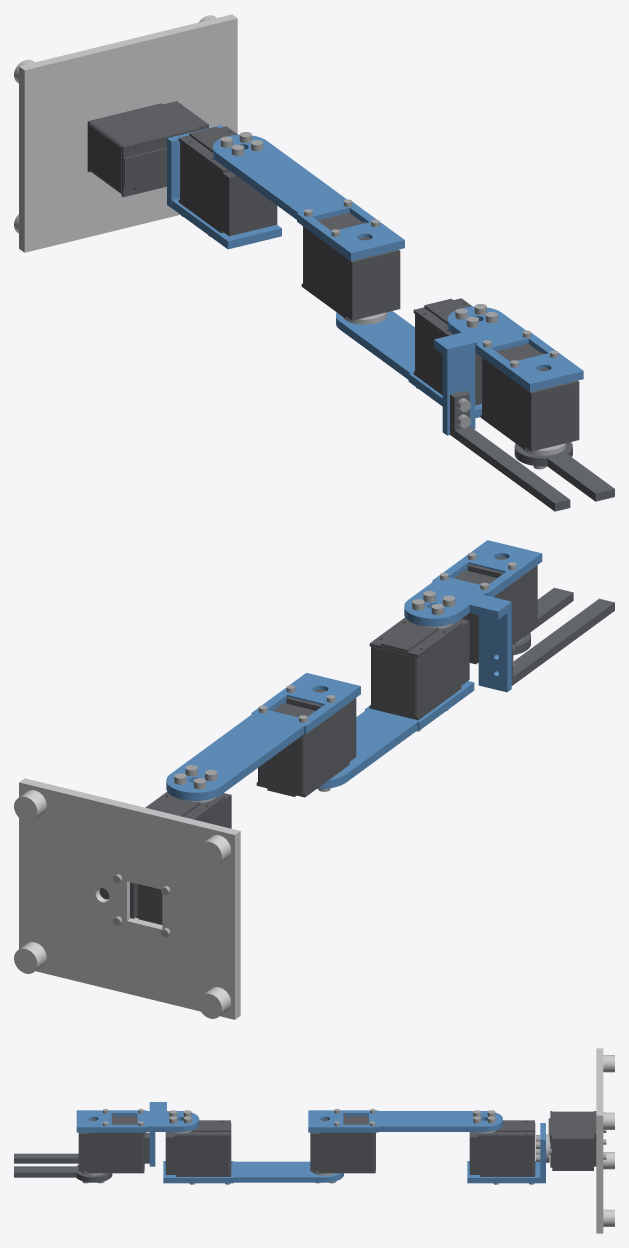
3 renders of one model, top to bottom at view 1: azimuth 30°, elevation 25°; view 2: azimuth 150°, elevation 25°; view 3: azimuth 270°, elevation 25°, orthographic. The views are drawn at different scales.
Parts seen in each view (by area): view 1: geometry_5, geometry_27, geometry_51, geometry_0, geometry_48, geometry_26, geometry_15, geometry_38, geometry_52, geometry_37, geometry_16, geometry_58; view 2: geometry_5, geometry_27, geometry_37, geometry_51, geometry_26, geometry_38, geometry_48, geometry_52, geometry_15, geometry_0, geometry_58; view 3: geometry_27, geometry_15, geometry_37, geometry_48, geometry_26, geometry_0, geometry_51, geometry_38, geometry_5, geometry_58, geometry_16, geometry_52.
Part boxes in pixels (bbox=[...]): geometry_5: bbox=[14, 14, 237, 252]; geometry_27: bbox=[213, 134, 404, 261]; geometry_51: bbox=[434, 306, 583, 435]; geometry_0: bbox=[87, 101, 208, 197]; geometry_48: bbox=[480, 343, 579, 451]; geometry_26: bbox=[301, 213, 400, 320]; geometry_15: bbox=[178, 126, 277, 236]; geometry_38: bbox=[336, 311, 481, 418]; geometry_52: bbox=[450, 390, 570, 511]; geometry_37: bbox=[413, 298, 481, 405]; geometry_16: bbox=[167, 125, 281, 249]; geometry_58: bbox=[514, 442, 614, 501]; geometry_5: bbox=[14, 778, 240, 1019]; geometry_27: bbox=[166, 673, 360, 800]; geometry_37: bbox=[369, 617, 469, 720]; geometry_51: bbox=[404, 540, 542, 692]; geometry_26: bbox=[256, 689, 356, 797]; geometry_38: bbox=[317, 681, 474, 788]; geometry_48: bbox=[454, 557, 537, 664]; geometry_52: bbox=[511, 598, 614, 685]; geometry_15: bbox=[145, 792, 231, 828]; geometry_0: bbox=[99, 882, 162, 924]; geometry_58: bbox=[513, 587, 573, 655]; geometry_27: bbox=[308, 1110, 502, 1132]; geometry_15: bbox=[469, 1120, 535, 1176]; geometry_37: bbox=[165, 1120, 231, 1176]; geometry_48: bbox=[78, 1114, 144, 1173]; geometry_26: bbox=[310, 1114, 375, 1173]; geometry_0: bbox=[548, 1111, 596, 1170]; geometry_51: bbox=[76, 1102, 199, 1166]; geometry_38: bbox=[163, 1161, 343, 1183]; geometry_5: bbox=[596, 1048, 614, 1233]; geometry_58: bbox=[14, 1165, 112, 1182]; geometry_16: bbox=[467, 1123, 545, 1183]; geometry_52: bbox=[14, 1132, 149, 1163].
Bounding box in the file's own units: 0.11 × 0.09 × 0.4153.
